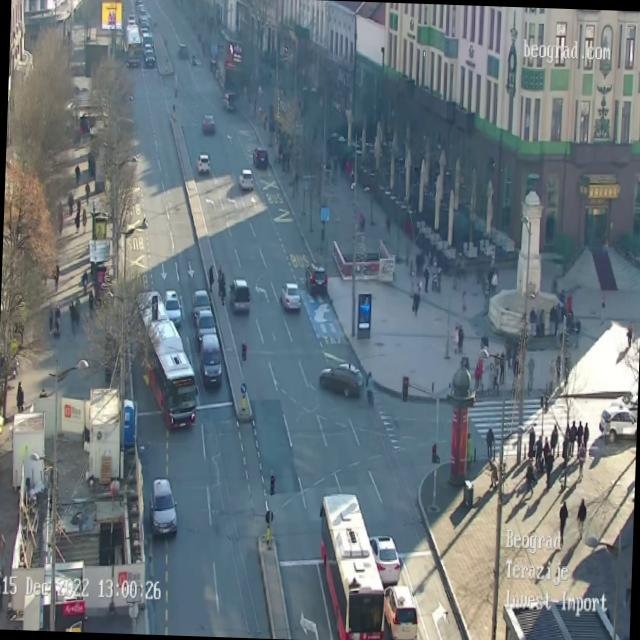bus: (315, 492, 389, 640), (130, 284, 200, 428), (124, 23, 142, 69)
car: (384, 582, 418, 640), (368, 531, 402, 585), (148, 478, 178, 536), (600, 401, 636, 448), (319, 361, 362, 398), (199, 334, 222, 388), (230, 278, 250, 315), (306, 263, 327, 297), (280, 281, 302, 311), (198, 309, 215, 344), (164, 288, 181, 322), (192, 290, 208, 322), (220, 88, 236, 112), (252, 142, 266, 168), (238, 168, 254, 190), (201, 112, 215, 133), (197, 152, 210, 174), (142, 51, 156, 68), (142, 33, 152, 48), (140, 18, 150, 32)
